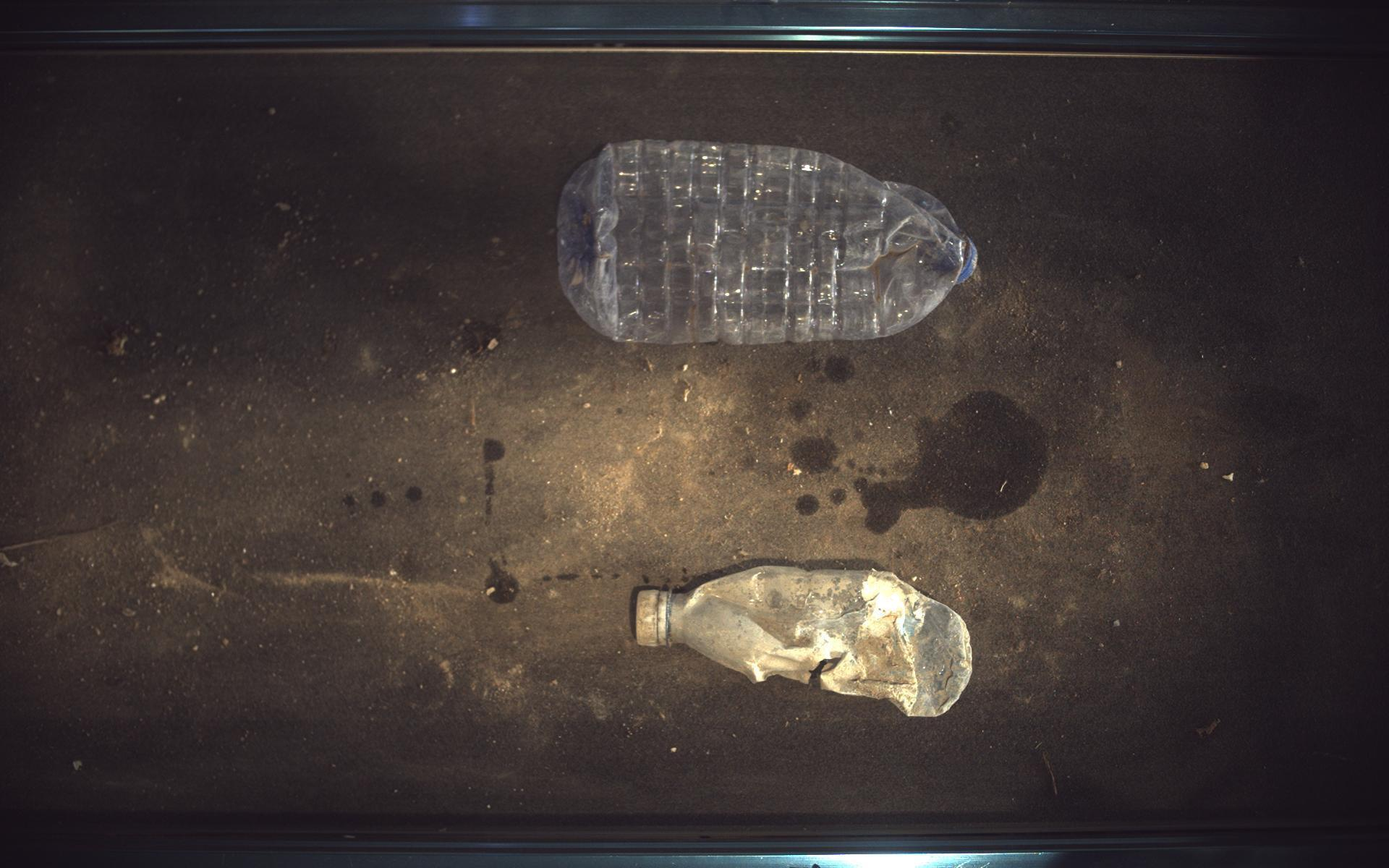general_w: (559, 139, 980, 344), (634, 566, 974, 718)
